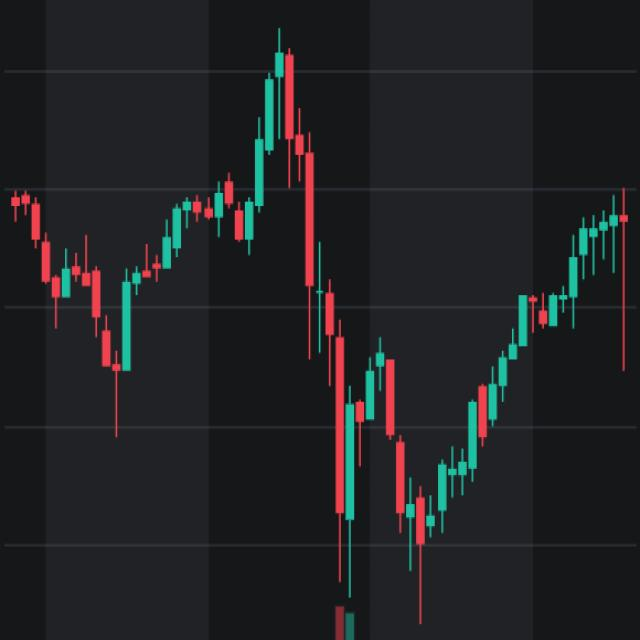Channel-down: (236, 7, 422, 563)
Channel-up: (374, 137, 634, 616)
